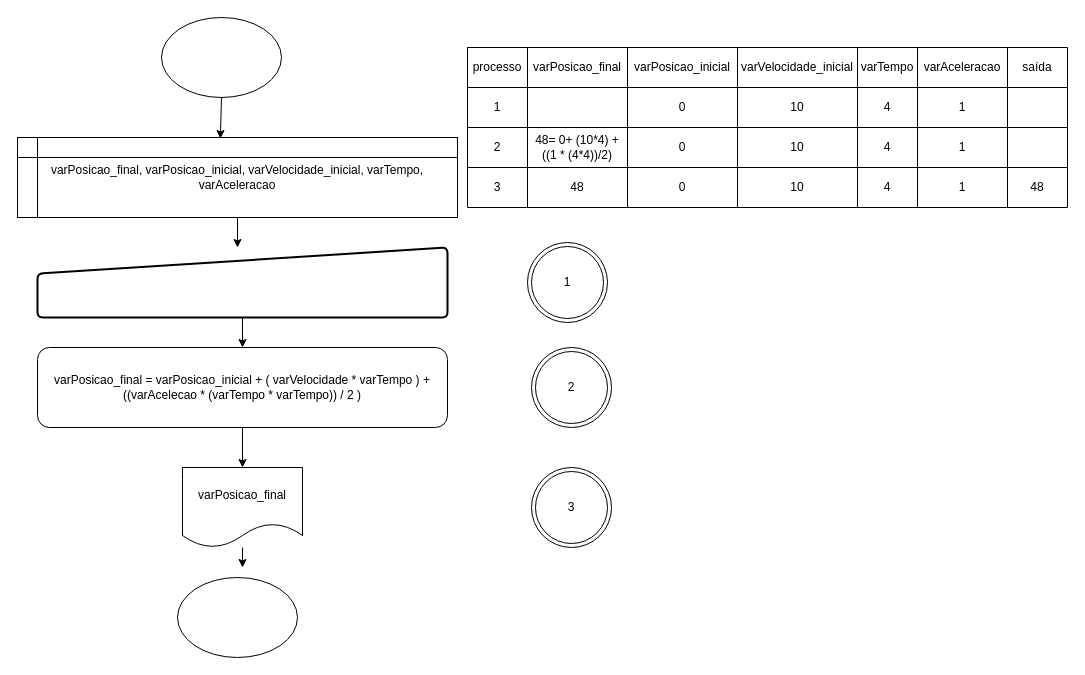
The diagram is 1085 pixels wide and 675 high, and some of its shapes have lost their labels. The shapes that lost their labels are listed below. From the top down, each one's centre as x and y in pixels, then its label:
point (221, 57): início
point (242, 282): varPosicao_inicial, varVelocidade_inicial, varTempo, varAceleracao
point (237, 617): fim
